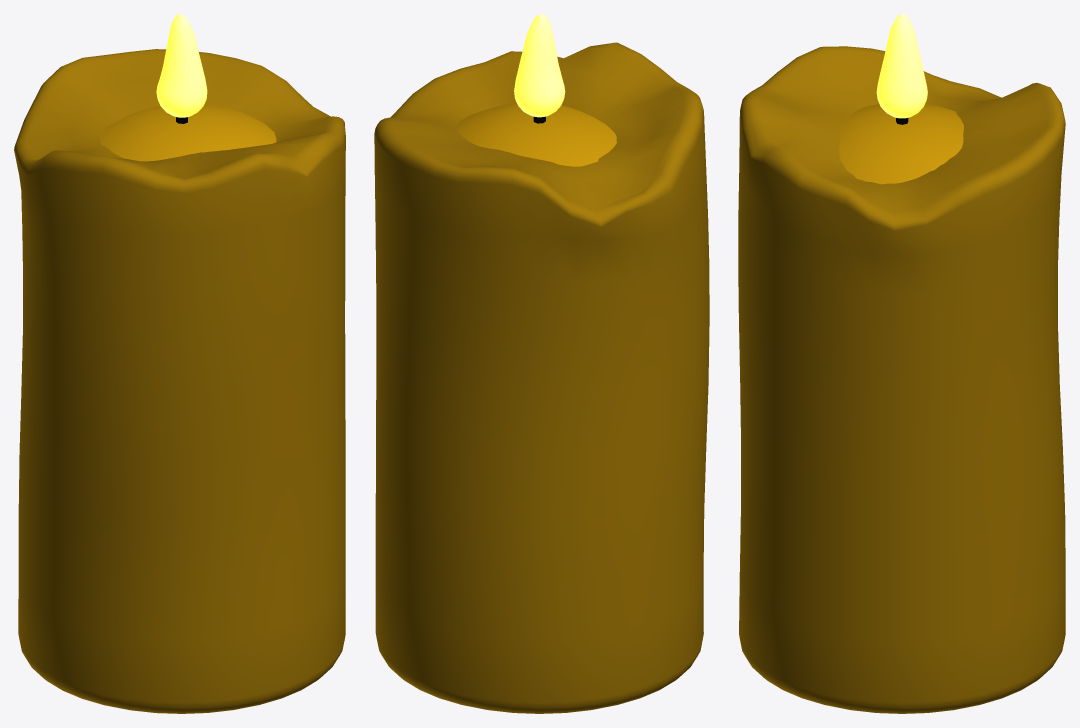
File: Свеча.fbx
The picture shows the model from 3 angles, left to right: view 1: azimuth 30°, elevation 25°; view 2: azimuth 150°, elevation 25°; view 3: azimuth 270°, elevation 25°; orthographic projection.
Visible parts, largest first — view 1: Cylinder, Sphere, Sphere_1; view 2: Cylinder, Sphere, Sphere_1; view 3: Cylinder, Sphere, Sphere_1.
Part boxes in pixels (x1,y1,x2,y2): Cylinder: (14, 49, 345, 713); Sphere: (100, 104, 276, 161); Sphere_1: (156, 14, 207, 117); Cylinder: (374, 42, 709, 713); Sphere: (456, 103, 616, 166); Sphere_1: (514, 14, 565, 117); Cylinder: (738, 46, 1065, 713); Sphere: (839, 104, 963, 184); Sphere_1: (876, 14, 927, 118).
Bounding box in the file's own units: 104 × 216 × 101.
